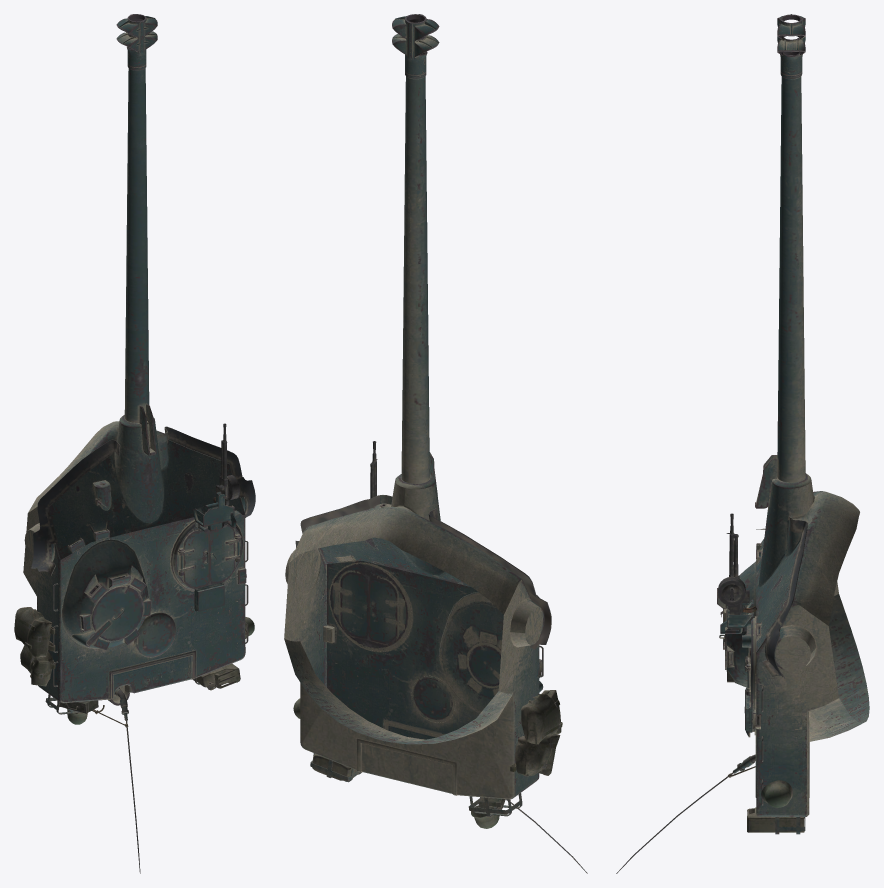
File: Gun_03.glb
The picture shows the model from 3 angles, left to right: view 1: azimuth 30°, elevation 25°; view 2: azimuth 150°, elevation 25°; view 3: azimuth 270°, elevation 25°; orthographic projection. The views are drawn at different scales.
Parts seen in each view (by area): view 1: set_0_group_0; view 2: set_0_group_0; view 3: set_0_group_0.
Part boxes in pixels (box(x1,y1,x2,y2)): set_0_group_0: box(14, 14, 255, 873); set_0_group_0: box(284, 14, 587, 873); set_0_group_0: box(616, 14, 869, 873).
Size of the model in its own units: 2.45 by 7.97 by 2.04.
Materials: 1 (1 with a texture image).
